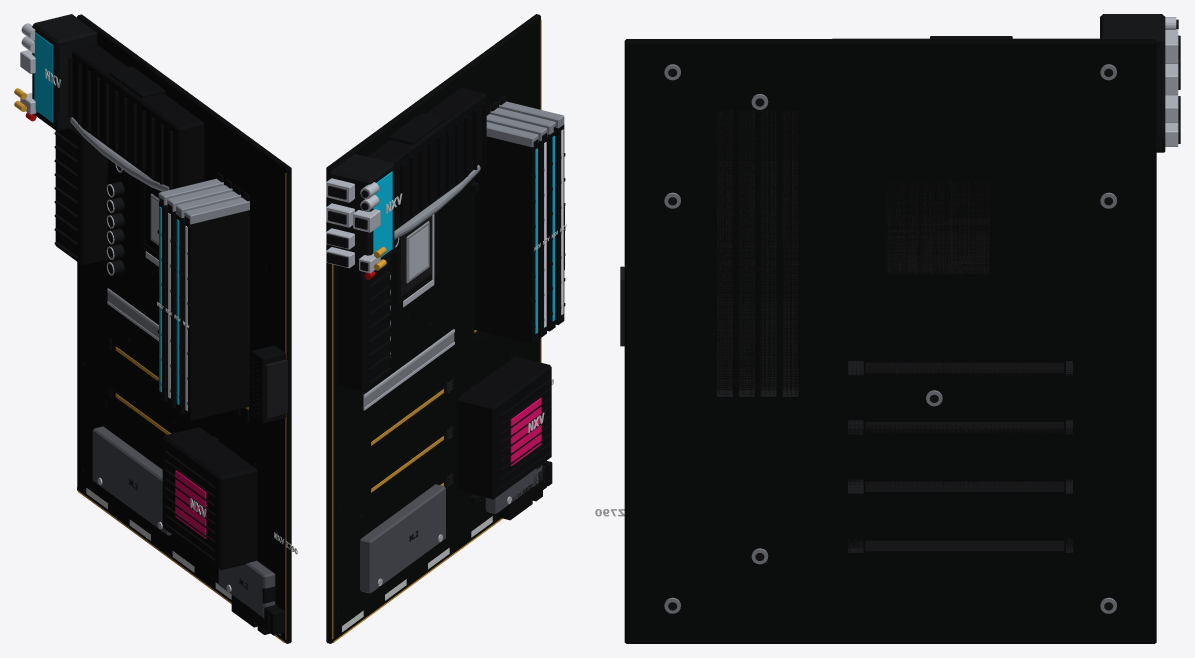
Rendered from motherboard.obj.
3 renders of one model, left to right at view 1: azimuth 30°, elevation 25°; view 2: azimuth 150°, elevation 25°; view 3: azimuth 270°, elevation 25°, orthographic. The views are drawn at different scales.
Visible parts, largest first — view 1: motherboard; view 2: motherboard; view 3: motherboard.
Boxes of the visible parts, x1=… form: motherboard: x1=14, y1=14, x2=297, y2=643; motherboard: x1=326, y1=14, x2=566, y2=643; motherboard: x1=595, y1=14, x2=1180, y2=643.
Bounding box in the file's own units: 46.31 × 305 × 268.
